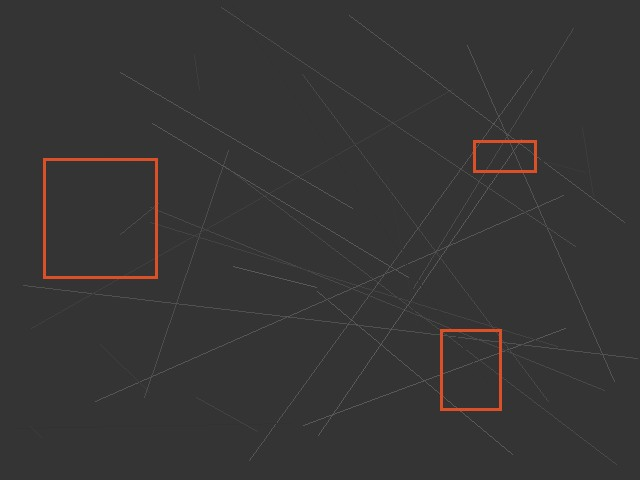D20: (43, 158, 157, 278), (440, 329, 501, 410), (473, 140, 536, 172)
